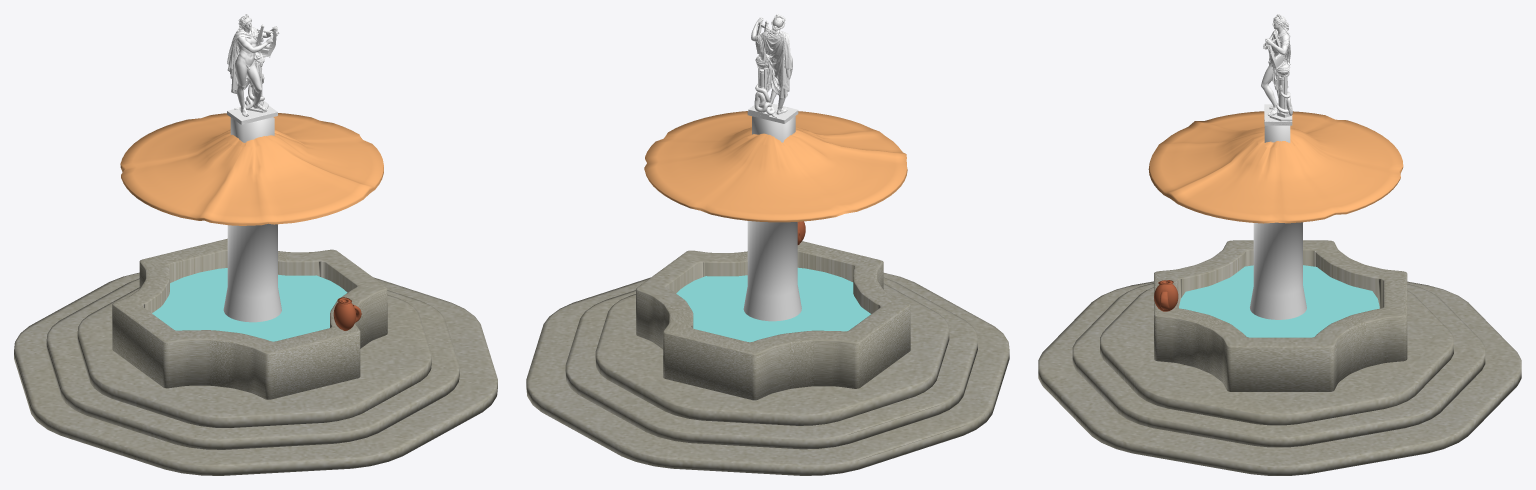
Rendered from fonteapolo1.glb.
3 renders of one model, left to right at view 1: azimuth 30°, elevation 25°; view 2: azimuth 150°, elevation 25°; view 3: azimuth 270°, elevation 25°, orthographic. The views are drawn at different scales.
Visible parts, largest first — view 1: Degraus.001, Toldo.001, Tanque.001, Fundo tanque.001, Pilar Central.001, EstatuaApolo - v3, Socó.001, Bilha.001; view 2: Degraus.001, Tanque.001, Toldo.001, Fundo tanque.001, Pilar Central.001, EstatuaApolo - v3, Socó.001; view 3: Degraus.001, Toldo.001, Tanque.001, Fundo tanque.001, Pilar Central.001, EstatuaApolo - v3, Bilha.001.
Boxes of the visible parts, x1=… form: Degraus.001: x1=14, y1=272, x2=497, y2=475; Toldo.001: x1=120, y1=113, x2=383, y2=225; Tanque.001: x1=112, y1=238, x2=387, y2=399; Fundo tanque.001: x1=152, y1=268, x2=347, y2=341; Pilar Central.001: x1=223, y1=223, x2=281, y2=322; EstatuaApolo - v3: x1=227, y1=14, x2=279, y2=124; Socó.001: x1=230, y1=117, x2=274, y2=142; Bilha.001: x1=333, y1=297, x2=361, y2=330; Degraus.001: x1=526, y1=273, x2=1009, y2=475; Tanque.001: x1=636, y1=241, x2=910, y2=400; Toldo.001: x1=644, y1=111, x2=907, y2=222; Fundo tanque.001: x1=676, y1=267, x2=870, y2=342; Pilar Central.001: x1=743, y1=221, x2=801, y2=321; EstatuaApolo - v3: x1=747, y1=14, x2=798, y2=123; Socó.001: x1=752, y1=116, x2=795, y2=142; Degraus.001: x1=1038, y1=281, x2=1521, y2=475; Toldo.001: x1=1148, y1=111, x2=1403, y2=223; Tanque.001: x1=1154, y1=240, x2=1407, y2=391; Fundo tanque.001: x1=1179, y1=265, x2=1379, y2=337; Pilar Central.001: x1=1250, y1=222, x2=1306, y2=319; EstatuaApolo - v3: x1=1261, y1=14, x2=1292, y2=125; Bilha.001: x1=1154, y1=280, x2=1178, y2=311.
Bounding box in the file's own units: 4.2 × 3.41 × 4.2.
9 materials, 2 textured.
